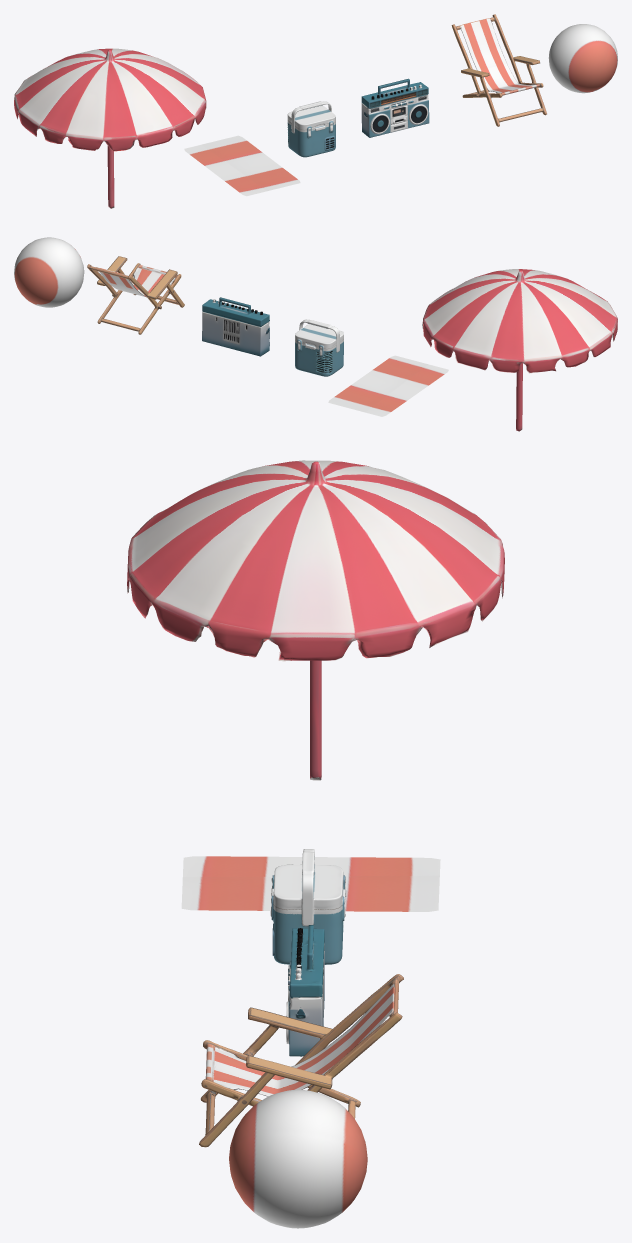
The model's file is beach_kit.glb.
The picture shows the model from 3 angles, top to bottom: view 1: azimuth 30°, elevation 25°; view 2: azimuth 150°, elevation 25°; view 3: azimuth 270°, elevation 25°; orthographic projection. The views are drawn at different scales.
Visible parts, largest first — view 1: Beach umbrella, Beach chair, Beach ball, Beach towel, Beach boombox, Coolbox; view 2: Beach umbrella, Beach ball, Beach towel, Beach boombox, Beach chair, Coolbox; view 3: Beach umbrella, Beach ball, Beach chair, Beach towel, Coolbox, Beach boombox.
Part boxes in pixels (x1,y1,x2,y2): Beach umbrella: (14, 48, 206, 208); Beach chair: (451, 14, 546, 126); Beach ball: (548, 24, 617, 93); Beach towel: (184, 135, 300, 196); Beach boombox: (361, 78, 429, 137); Coolbox: (287, 101, 335, 157); Beach umbrella: (422, 269, 617, 431); Beach ball: (14, 237, 84, 307); Beach towel: (328, 355, 448, 416); Beach boombox: (202, 297, 269, 356); Beach chair: (87, 256, 184, 334); Coolbox: (295, 319, 343, 376); Beach umbrella: (127, 460, 504, 780); Beach ball: (229, 1089, 367, 1228); Beach chair: (199, 974, 403, 1147); Beach towel: (181, 856, 440, 911); Coolbox: (270, 849, 346, 964); Beach boombox: (286, 925, 324, 1056).
Bounding box in the file's own units: 12.48 × 3.24 × 3.51.
4 materials, 4 textured.
